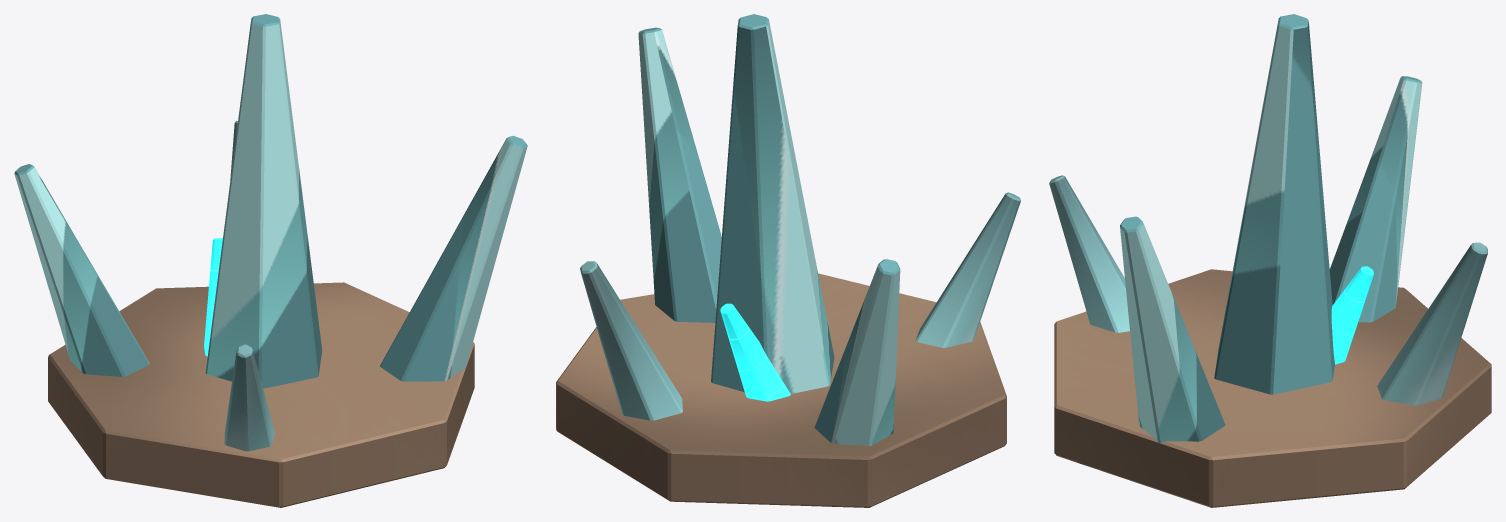
Rendered from ENV_Crystal_A_v1.fbx.
3 views of the same model, side by side, from view 1: azimuth 30°, elevation 25°; view 2: azimuth 150°, elevation 25°; view 3: azimuth 270°, elevation 25° (orthographic). The views are drawn at different scales.
Parts seen in each view (by area): view 1: GEO_Crystal_A; view 2: GEO_Crystal_A; view 3: GEO_Crystal_A.
Part boxes in pixels (bbox=[...]): GEO_Crystal_A: bbox=[14, 14, 527, 507]; GEO_Crystal_A: bbox=[556, 14, 1020, 507]; GEO_Crystal_A: bbox=[1049, 14, 1491, 507].
Size of the model in its own units: 149 by 142 by 142.
